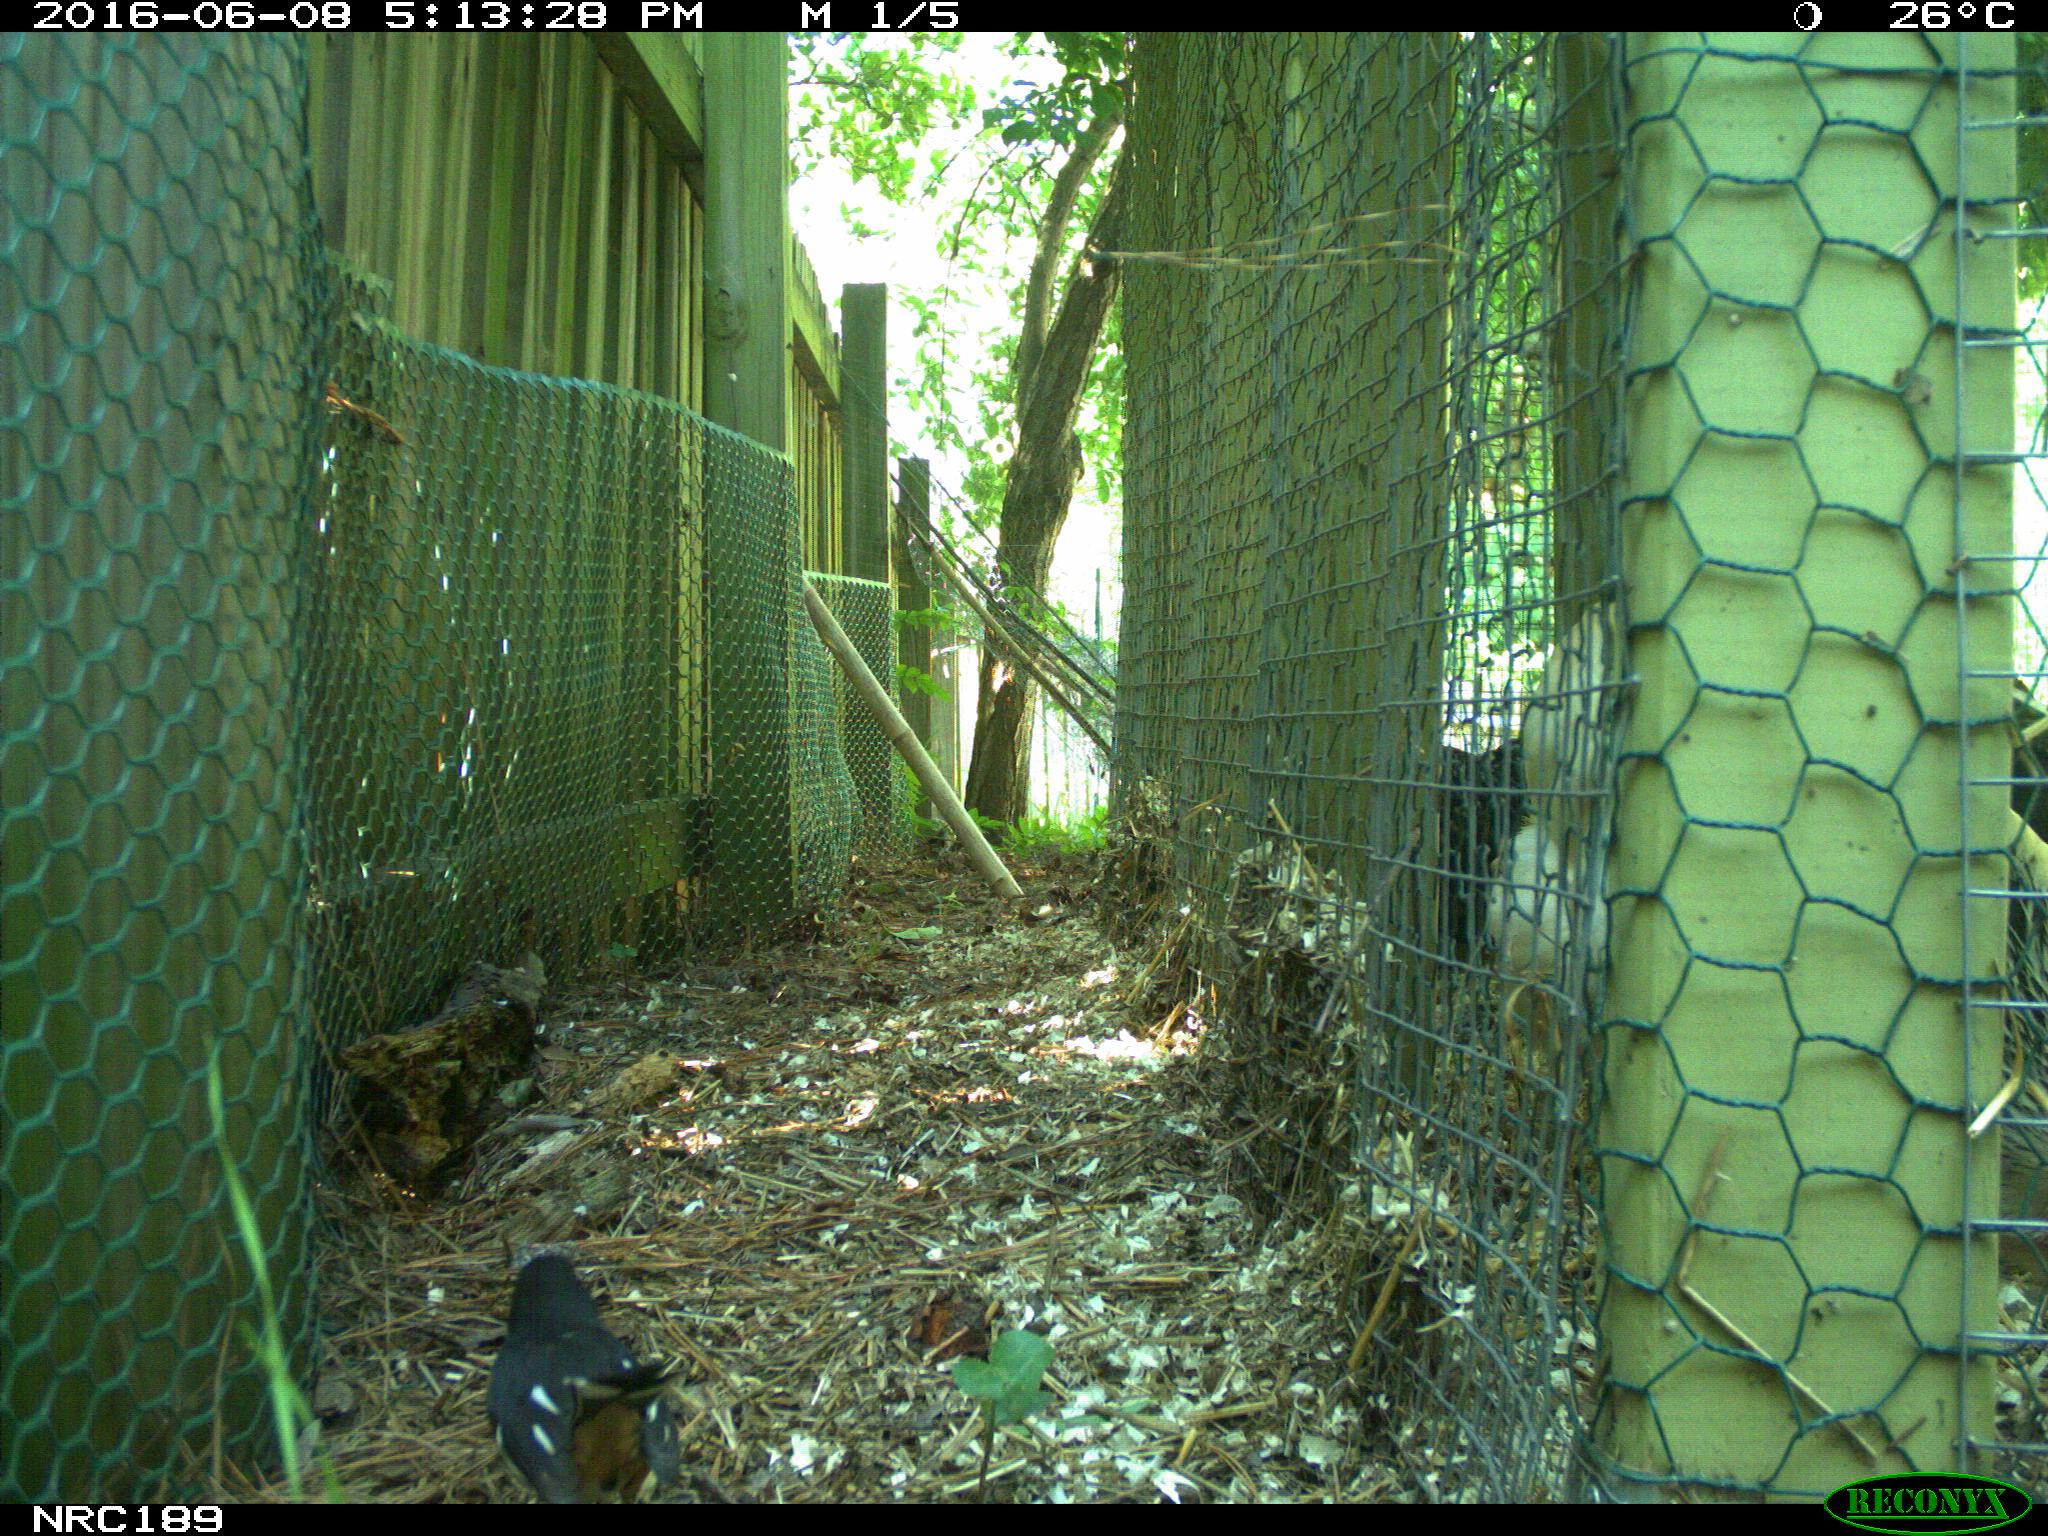Animal: (489, 1252, 681, 1504)
